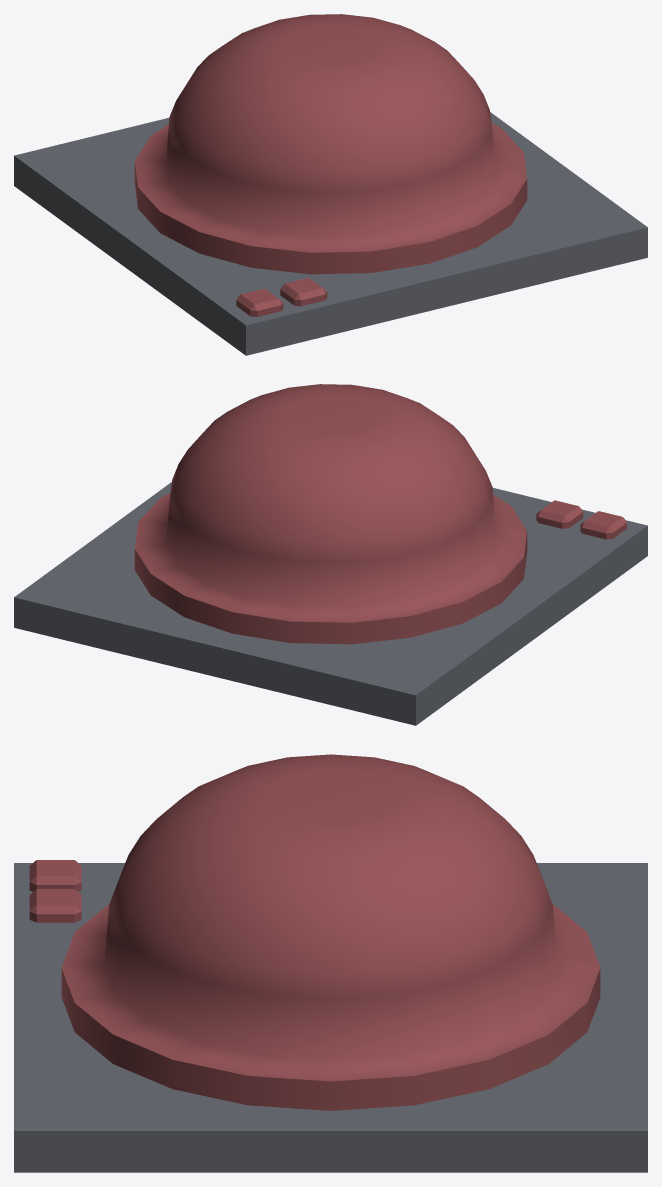
Rendered from button.fbx.
3 views of the same model, one above another, from view 1: azimuth 30°, elevation 25°; view 2: azimuth 150°, elevation 25°; view 3: azimuth 270°, elevation 25° (orthographic). The views are drawn at different scales.
Parts seen in each view (by area): view 1: Button:pCube3; view 2: Button:pCube3; view 3: Button:pCube3.
Part boxes in pixels (left/top/right/bottom): Button:pCube3: left=14, top=14, right=647, bottom=355; Button:pCube3: left=14, top=384, right=647, bottom=725; Button:pCube3: left=14, top=754, right=647, bottom=1172.
Size of the model in its own units: 8.86 by 3.73 by 8.86.
